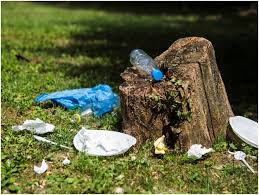plastic_bottle: (128, 48, 165, 82)
